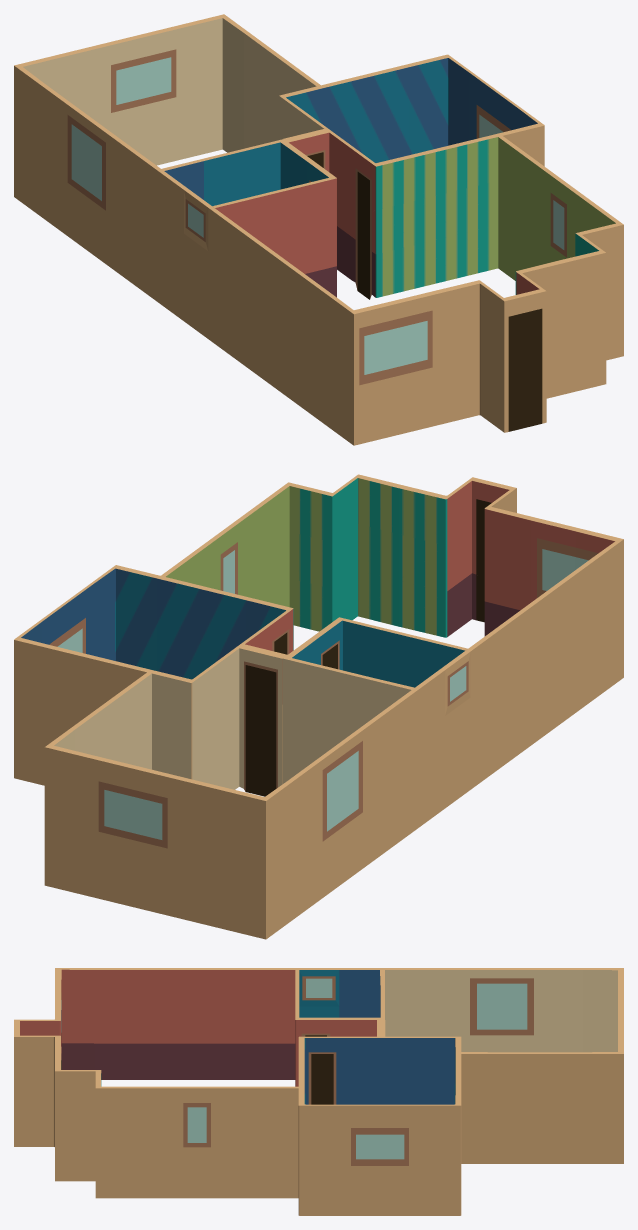
Rendered from N0_Paredes.fbx.
3 renders of one model, top to bottom at view 1: azimuth 30°, elevation 25°; view 2: azimuth 150°, elevation 25°; view 3: azimuth 270°, elevation 25°, orthographic. The views are drawn at different scales.
Visible parts, largest first — view 1: N0_ParedCasa; view 2: N0_ParedCasa; view 3: N0_ParedCasa.
Boxes of the visible parts, x1,y1,x2,y2 form: N0_ParedCasa: (14, 14, 623, 445); N0_ParedCasa: (14, 474, 623, 939); N0_ParedCasa: (14, 968, 623, 1215).
Bounding box in the file's own units: 802 × 313 × 1500.
Materials: 11 (11 with a texture image).
